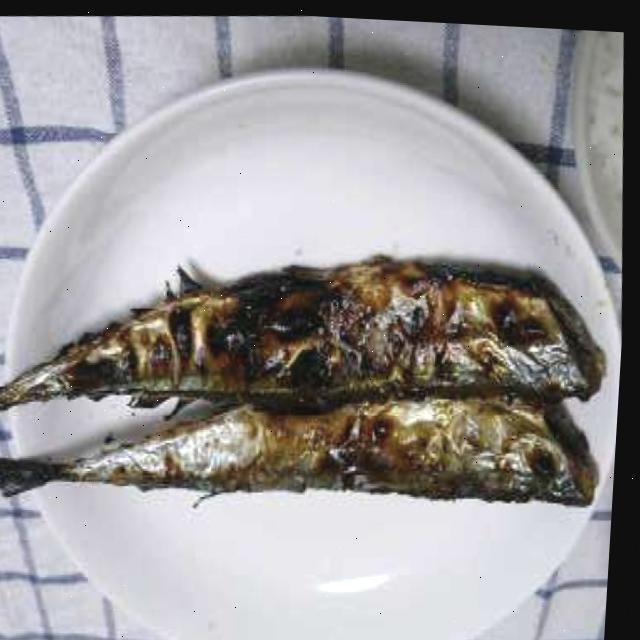熟制海鲜: (0, 193, 631, 570)
